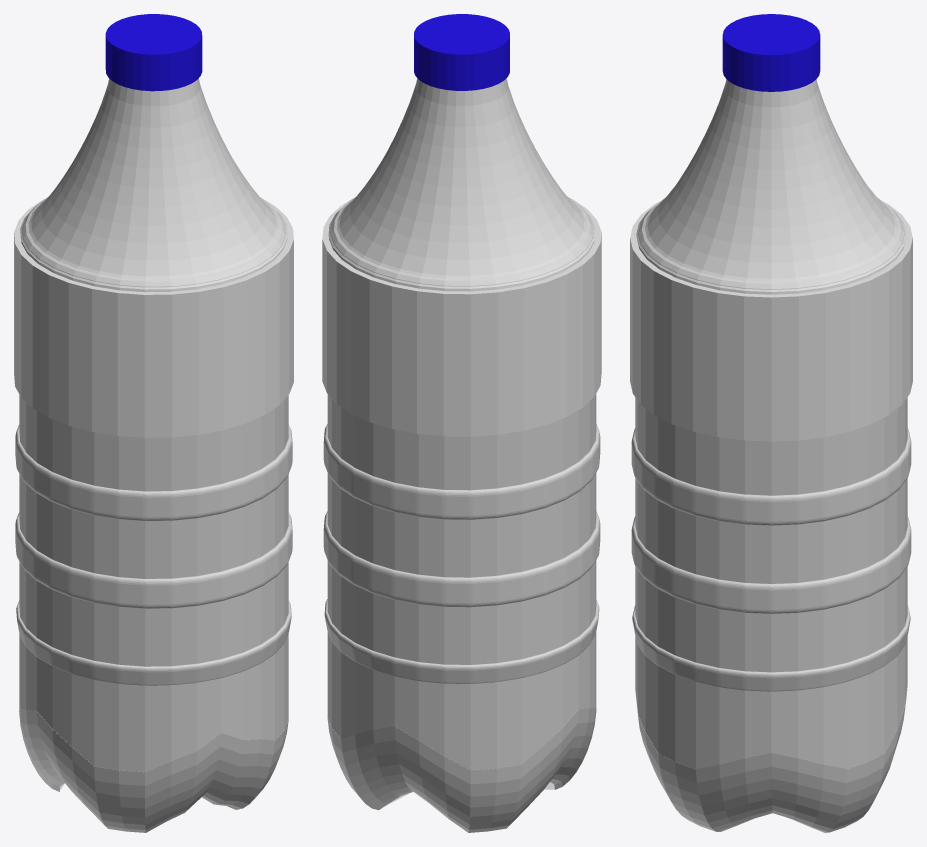
File: Bottle.fbx
3 renders of one model, left to right at view 1: azimuth 30°, elevation 25°; view 2: azimuth 150°, elevation 25°; view 3: azimuth 270°, elevation 25°, orthographic.
Visible parts, largest first — view 1: Cylinder, Cylinder.001; view 2: Cylinder, Cylinder.001; view 3: Cylinder, Cylinder.001.
Part boxes in pixels (left/top/right/bottom): Cylinder: left=15, top=14, right=292, bottom=832; Cylinder.001: left=14, top=198, right=293, bottom=437; Cylinder: left=323, top=14, right=600, bottom=832; Cylinder.001: left=322, top=198, right=601, bottom=436; Cylinder: left=631, top=14, right=911, bottom=832; Cylinder.001: left=630, top=201, right=912, bottom=441.
Bounding box in the file's own units: 104 × 311 × 104.
